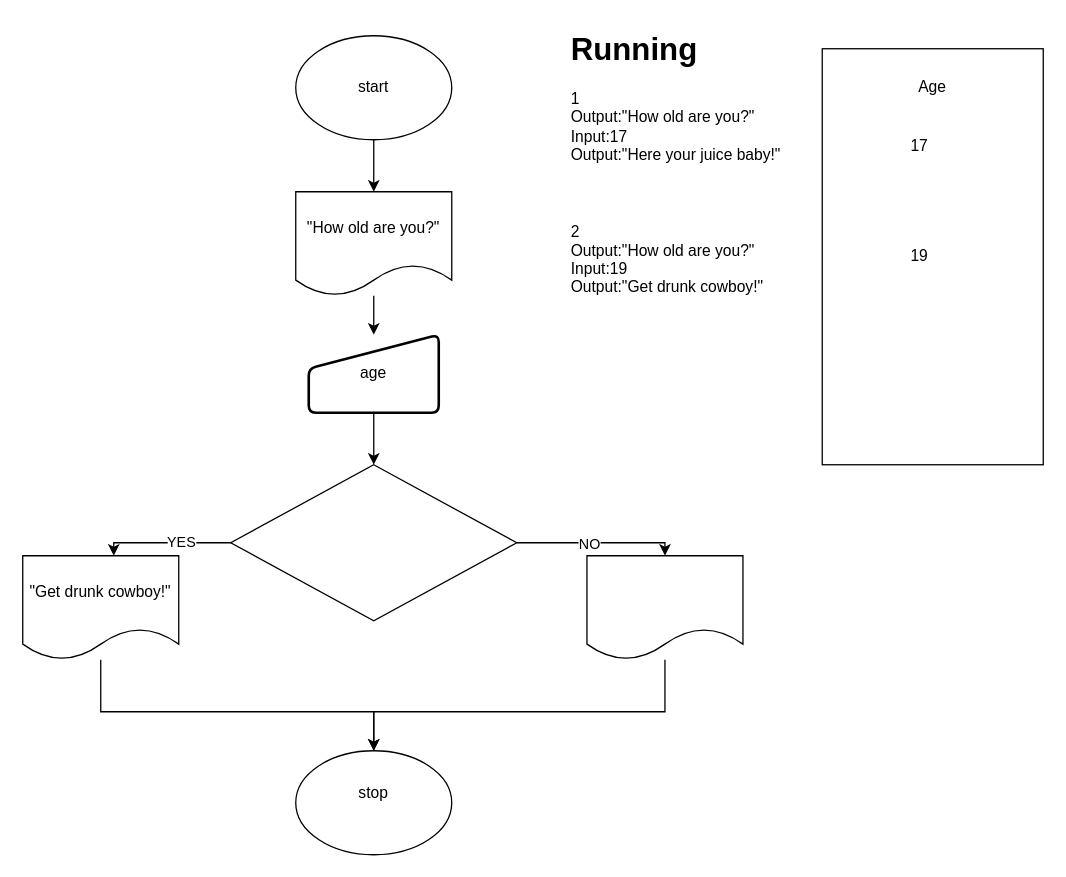
Image size: 1066x877. Some labels were removed from this diagram. Here are the shapes that lost their labels. From the top down, the centre of each, then its label:
(373,542): age>17
(664,607): "Here your juice baby!""
